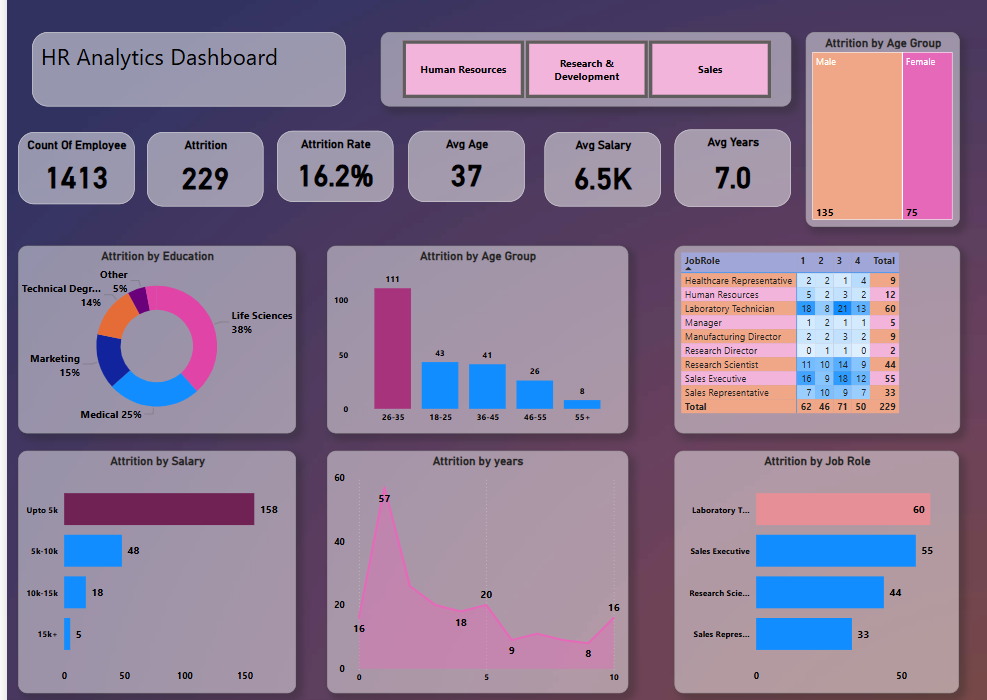

The page's visual inventory and layout, read from the dashboard file:
{"tool":"powerbi","page":{"name":"Page 1","canvas":[1400,1200],"ordinal":0},"visuals":[{"type":"card","title":"Count Of Employee","fields":{"Values":["CountNonNull(HR_Analytics.EmpID)"]},"box":[16.7,285,166.7,103.3],"z":0},{"type":"card","title":"Attrition","fields":{"Values":["Sum(HR_Analytics.AttritionCount)"]},"box":[200,285,166.7,106.7],"z":1000},{"type":"card","title":"Attrition Rate","fields":{"Values":["HR_Analytics.AttritionRate"]},"box":[385,283.3,166.7,101.7],"z":2000},{"type":"card","title":"Avg Age","fields":{"Values":["Avg(HR_Analytics.Age)"]},"box":[573.3,283.3,166.7,101.7],"z":3000},{"type":"card","title":"Avg Salary","fields":{"Values":["Avg(HR_Analytics.MonthlyIncome)"]},"box":[768.3,285,166.7,106.7],"z":4000},{"type":"card","title":"Avg Years","fields":{"Values":["Avg(HR_Analytics.YearsAtCompany)"]},"box":[953.3,281.7,166.7,110],"z":5000},{"type":"donutChart","title":"Attrition by Education","fields":{"Category":["HR_Analytics.EducationField"],"Y":["Sum(HR_Analytics.AttritionCount)"]},"box":[16.7,448.3,396.7,268.3],"z":6000},{"type":"columnChart","title":"Attrition by Age Group","fields":{"Y":["Sum(HR_Analytics.AttritionCount)"],"Category":["HR_Analytics.AgeGroup"]},"box":[456.7,448.3,430,268.3],"z":7000},{"type":"pivotTable","fields":{"Rows":["HR_Analytics.JobRole"],"Columns":["HR_Analytics.JobSatisfaction"],"Values":["Sum(HR_Analytics.AttritionCount)"]},"box":[953.3,448.3,408.3,268.3],"z":8000},{"type":"barChart","title":"Attrition by Salary","fields":{"Category":["HR_Analytics.SalarySlab"],"Y":["Sum(HR_Analytics.AttritionCount)"]},"box":[16.7,741.7,396.7,346.7],"z":8001},{"type":"barChart","title":"Attrition by Job Role","fields":{"Y":["Sum(HR_Analytics.AttritionCount)"],"Category":["HR_Analytics.JobRole"]},"box":[953.3,741.7,406.7,346.7],"z":8002},{"type":"areaChart","title":"Attrition by years","fields":{"Y":["Sum(HR_Analytics.AttritionCount)"],"Category":["HR_Analytics.YearsAtCompany"]},"box":[456.7,741.7,430,346.7],"z":8003},{"type":"treemap","title":"Attrition by Age Group","fields":{"Group":["HR_Analytics.Gender"],"Values":["Sum(HR_Analytics.AttritionCount)"]},"box":[1141.7,143.3,220,278.3],"z":8004},{"type":"slicer","fields":{"Values":["HR_Analytics.Department"]},"box":[533.3,143.3,586.7,106.7],"z":8005},{"type":"textbox","box":[35,143.3,448.3,106.7],"z":8006}]}

Visuals, with their boxes on the page's 1400x1200 design canvas (x1, y1, x2, y2). These are canvas units, not pixel positions in the 987x700 screenshot, which may show the page scaled, cropped or inside an application window:
"Count Of Employee" card: (x1=17, y1=285, x2=183, y2=388)
"Attrition" card: (x1=200, y1=285, x2=367, y2=392)
"Attrition Rate" card: (x1=385, y1=283, x2=552, y2=385)
"Avg Age" card: (x1=573, y1=283, x2=740, y2=385)
"Avg Salary" card: (x1=768, y1=285, x2=935, y2=392)
"Avg Years" card: (x1=953, y1=282, x2=1120, y2=392)
"Attrition by Education" donutChart: (x1=17, y1=448, x2=413, y2=717)
"Attrition by Age Group" columnChart: (x1=457, y1=448, x2=887, y2=717)
pivotTable - HR_Analytics.JobRole x HR_Analytics.JobSatisfaction: (x1=953, y1=448, x2=1362, y2=717)
"Attrition by Salary" barChart: (x1=17, y1=742, x2=413, y2=1088)
"Attrition by Job Role" barChart: (x1=953, y1=742, x2=1360, y2=1088)
"Attrition by years" areaChart: (x1=457, y1=742, x2=887, y2=1088)
"Attrition by Age Group" treemap: (x1=1142, y1=143, x2=1362, y2=422)
slicer - HR_Analytics.Department: (x1=533, y1=143, x2=1120, y2=250)
textbox: (x1=35, y1=143, x2=483, y2=250)
